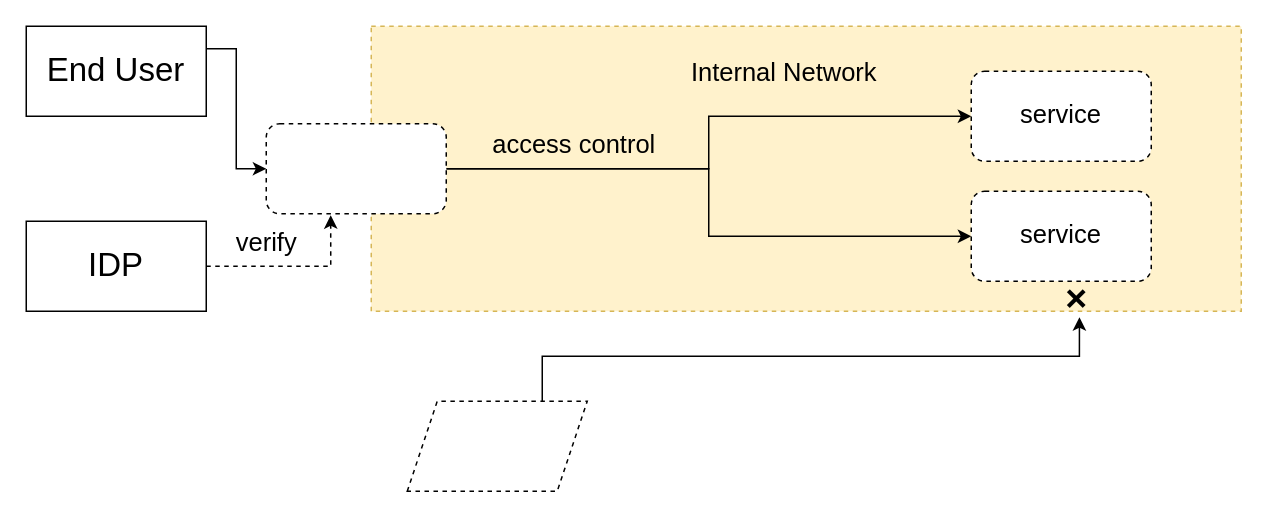
The diagram is 1268 pixels wide and 518 high, and some of its shapes have lost their labels. The shapes that lost their labels are listed below. From the top down, each one's centre as x and y in pixels, then its label:
At [355,168]: "user agent".
At [496,445]: "Hacker".
